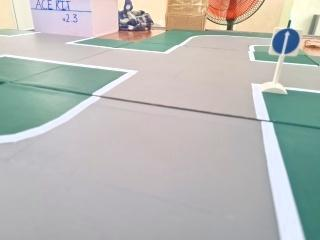straight: (268, 25, 302, 57)
